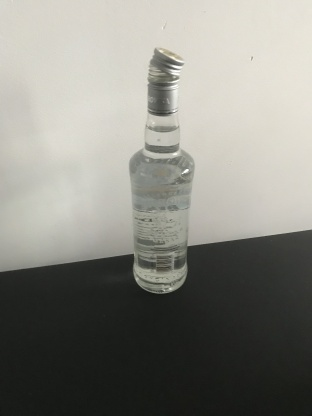nakretka: (145, 45, 185, 116)
